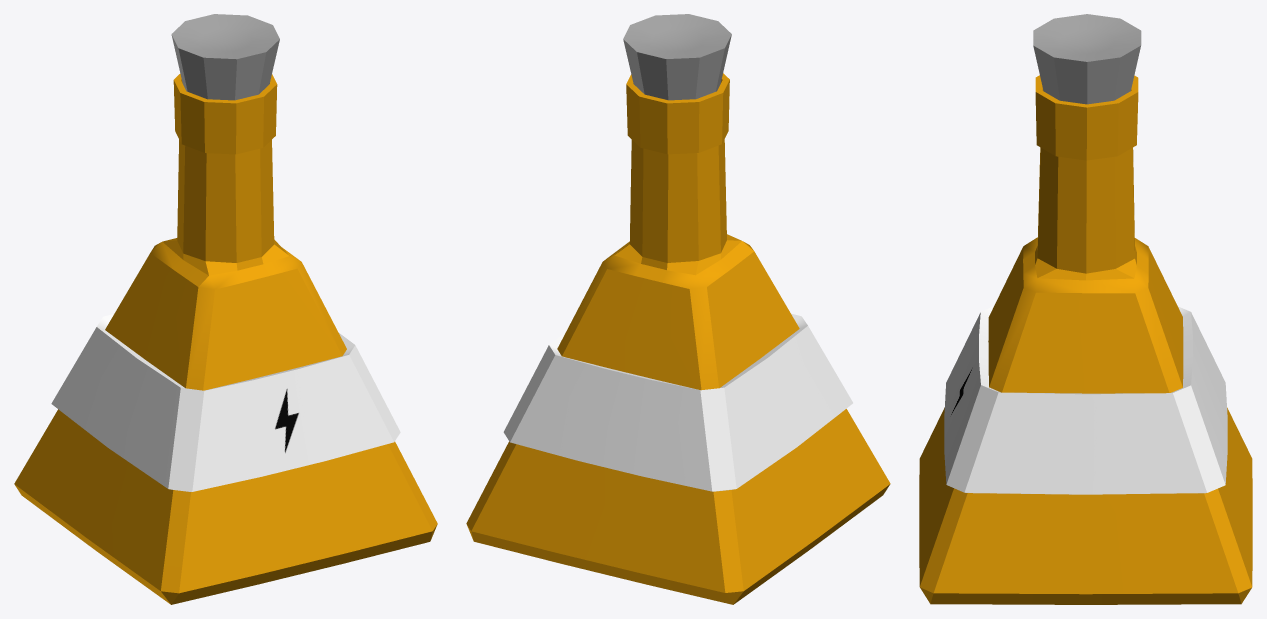
Rendered from lightning_pot.fbx.
3 views of the same model, side by side, from view 1: azimuth 30°, elevation 25°; view 2: azimuth 150°, elevation 25°; view 3: azimuth 270°, elevation 25° (orthographic). The views are drawn at different scales.
Parts seen in each view (by area): view 1: polySurface59, polySurface60, polySurface61; view 2: polySurface59, polySurface60, polySurface61; view 3: polySurface59, polySurface60, polySurface61.
Part boxes in pixels (bbox=[...]): polySurface59: bbox=[14, 74, 437, 604]; polySurface60: bbox=[51, 314, 400, 491]; polySurface61: bbox=[171, 14, 279, 100]; polySurface59: bbox=[466, 73, 890, 604]; polySurface60: bbox=[503, 313, 852, 491]; polySurface61: bbox=[623, 14, 731, 100]; polySurface59: bbox=[919, 75, 1252, 604]; polySurface60: bbox=[944, 306, 1227, 494]; polySurface61: bbox=[1033, 14, 1141, 104].
Size of the model in its own units: 1.05 by 1.74 by 1.05.
Materials: 3 (1 with a texture image).
